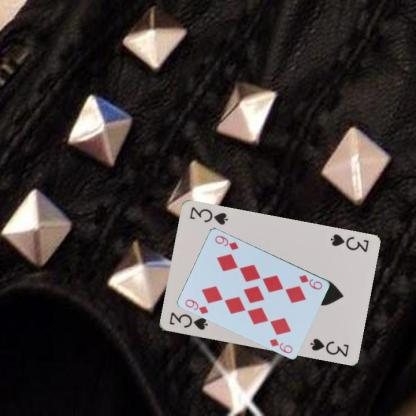3s: (327, 231, 370, 254), (166, 310, 209, 332)
9d: (182, 297, 210, 316), (297, 272, 324, 291)
